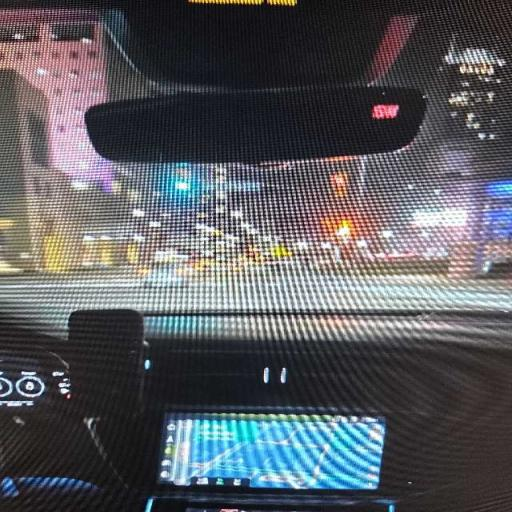car: (0, 0, 511, 511)
lane: (0, 272, 510, 325)
